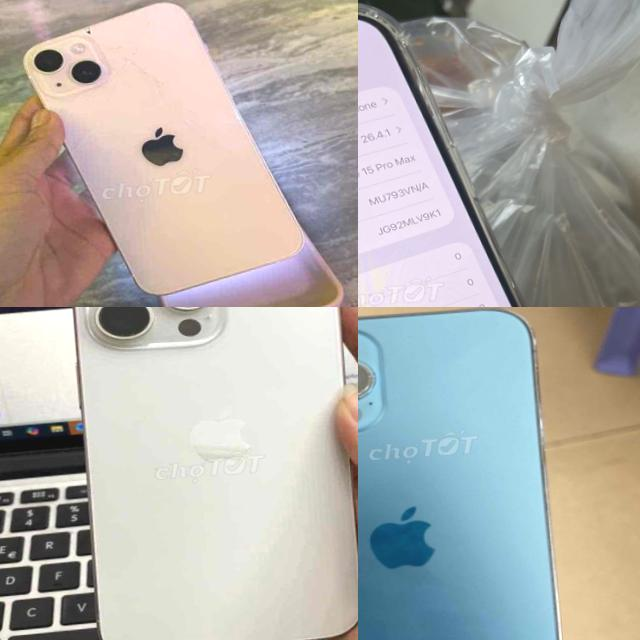physical_damage: (108, 42, 177, 88), (119, 169, 204, 205), (120, 257, 188, 296), (198, 232, 250, 274), (242, 224, 298, 262), (177, 245, 224, 289), (170, 114, 233, 142), (138, 220, 187, 256), (213, 134, 273, 163), (97, 144, 147, 174), (129, 195, 183, 222), (148, 86, 194, 116), (83, 120, 135, 146), (102, 92, 145, 118), (132, 6, 165, 37), (81, 26, 118, 50), (67, 140, 93, 164)
